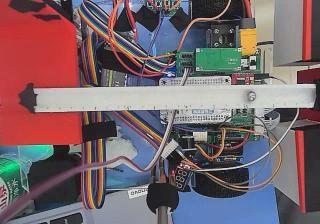ironball: (247, 91, 256, 100)
